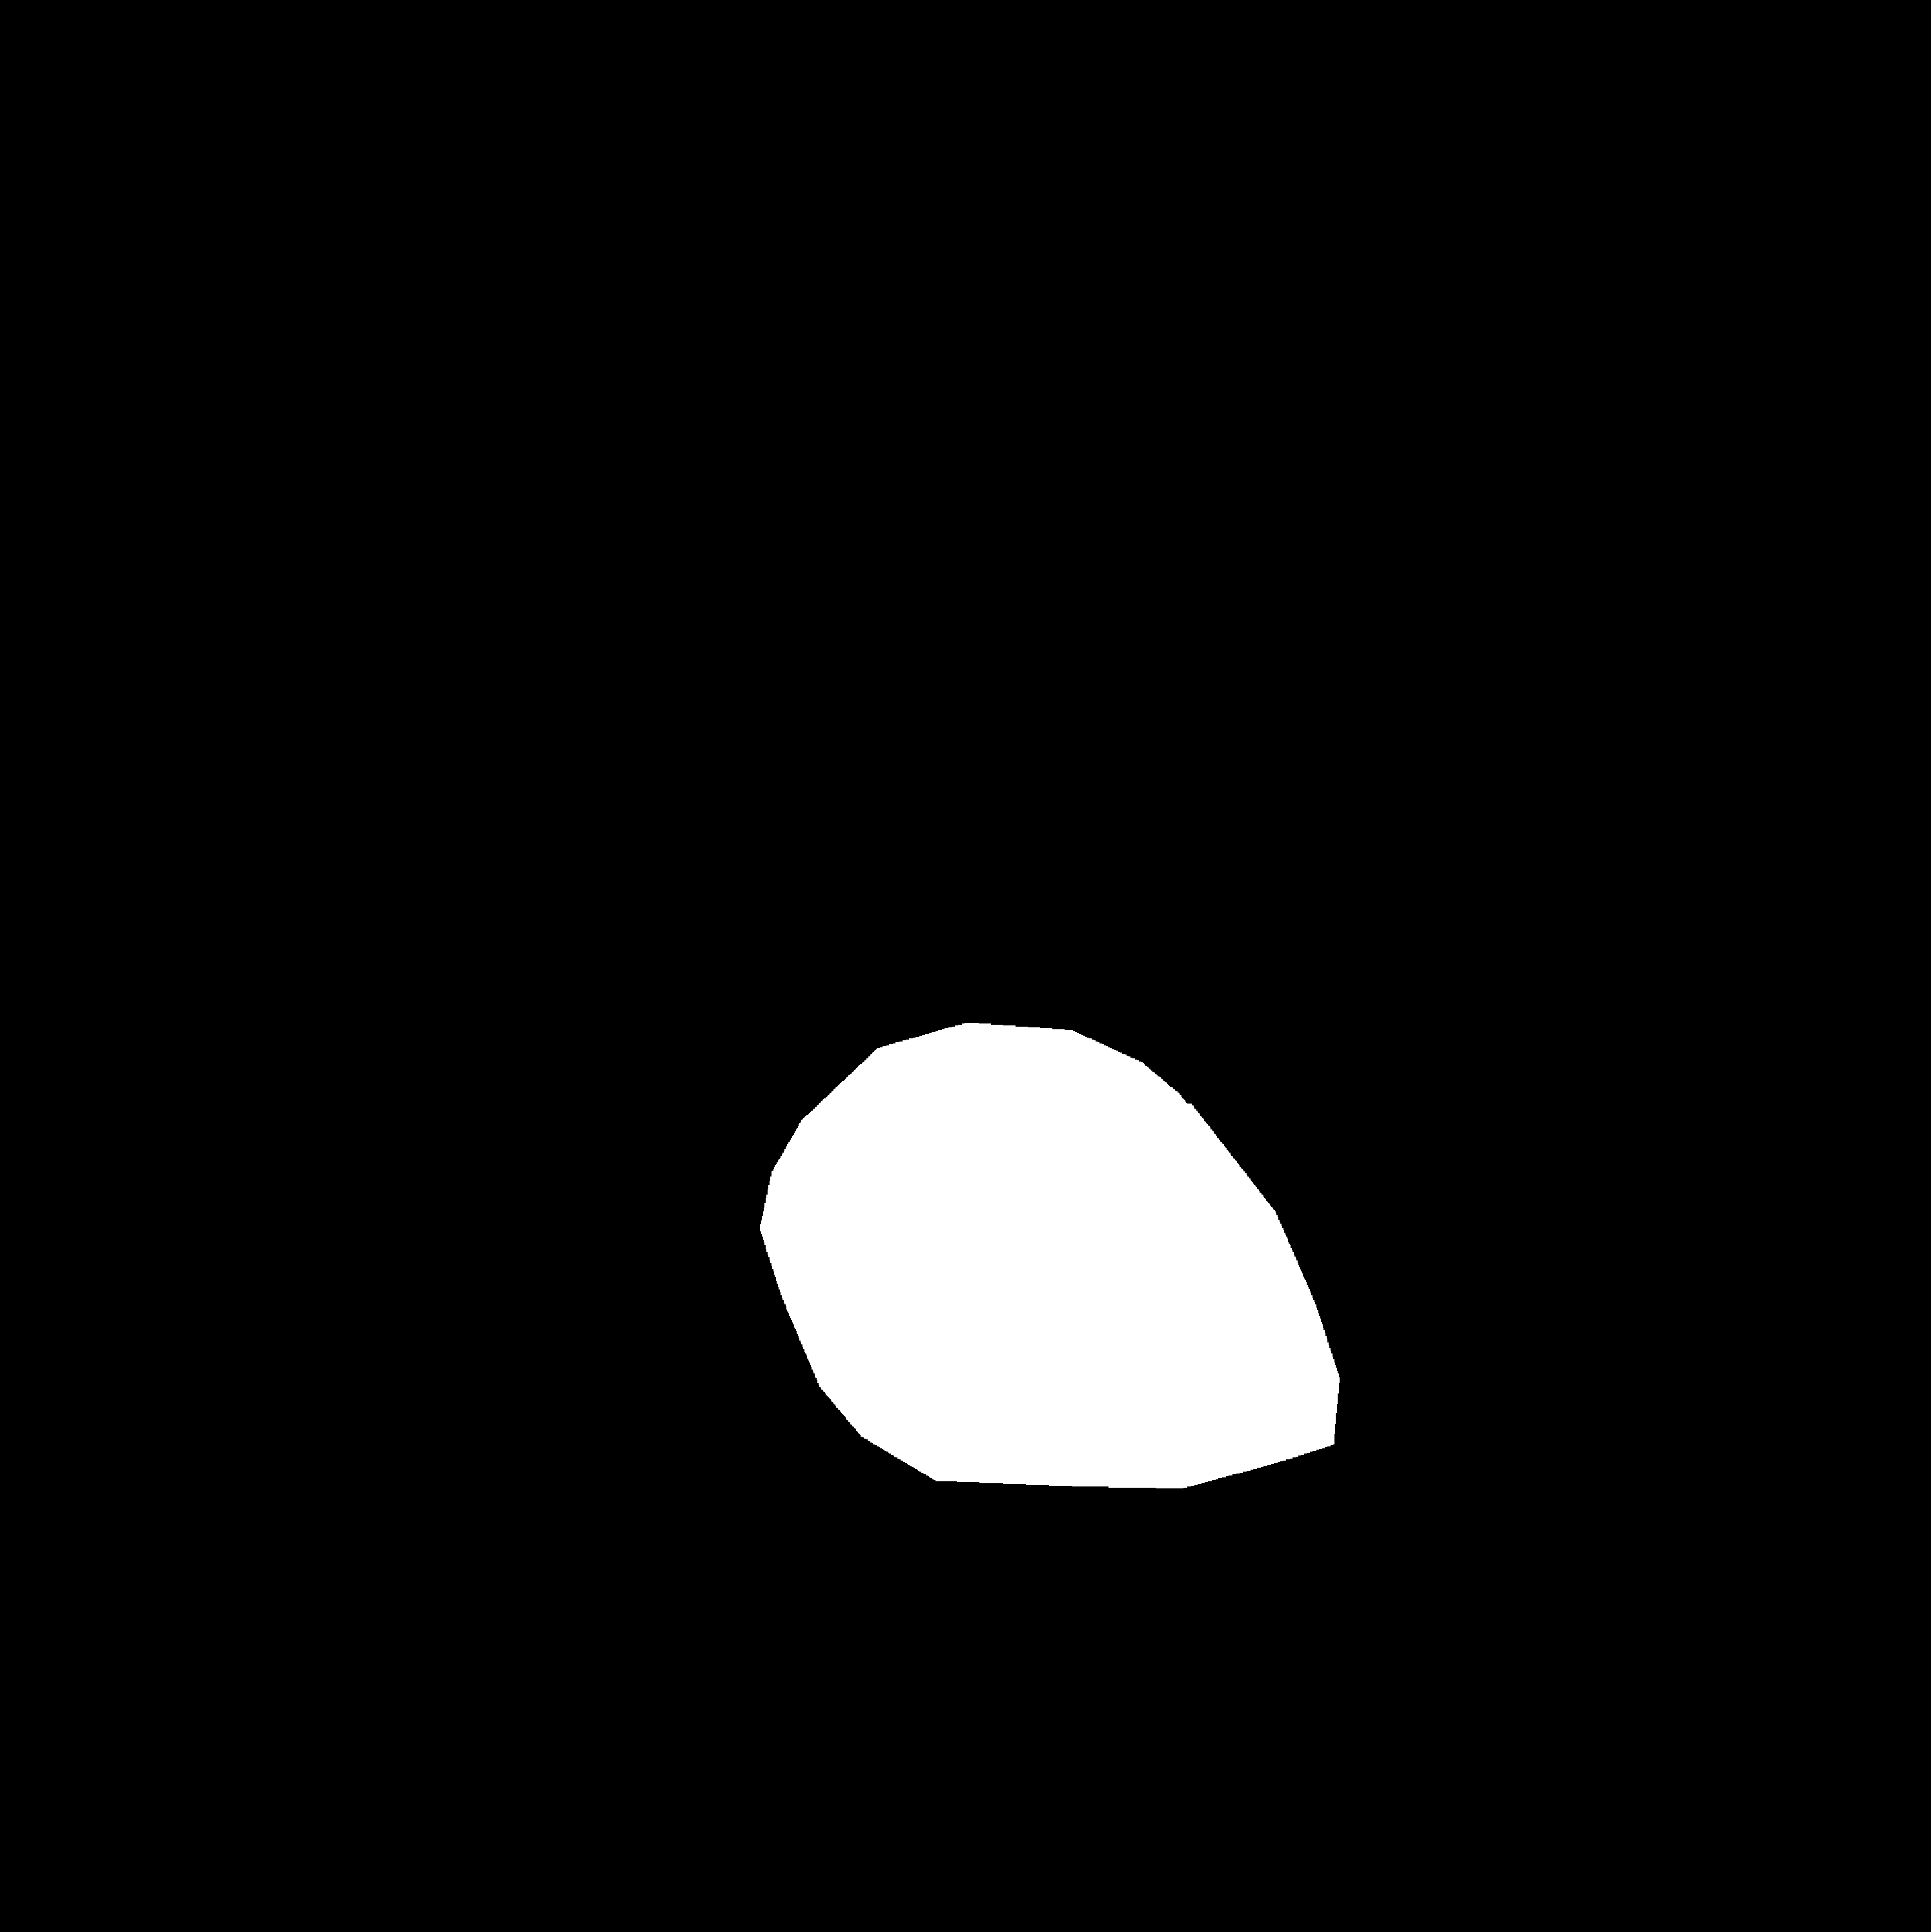heart: (766, 1081, 1355, 1532)
left_lung: (318, 410, 866, 1608)
right_lung: (1020, 389, 1602, 1575)
